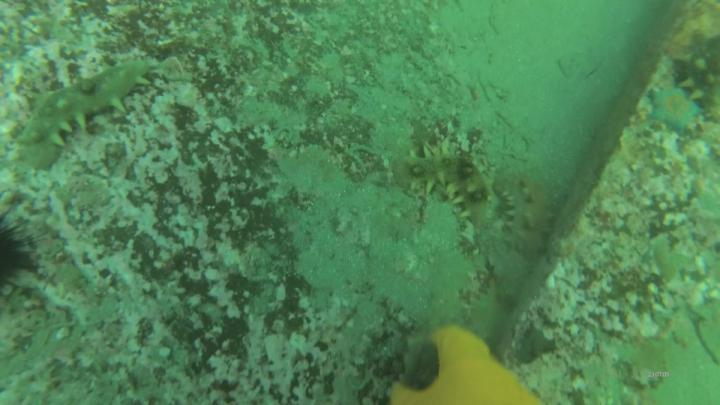holothurian: (14, 59, 153, 148), (395, 150, 492, 229), (496, 169, 551, 256)
starfish: (650, 81, 703, 134)
